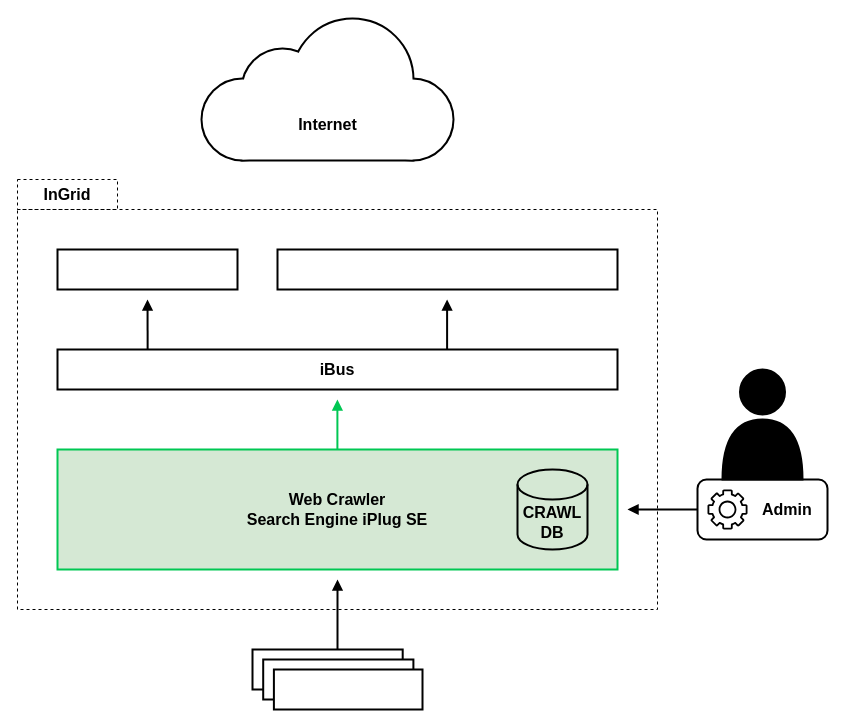
Some shapes in this 846 by 727 pixel diagram are drawn without their labels. The shapes that lost their labels are listed below. From the top down, each one's centre as x and y in pixels, then its label:
the point at 147,269: InGrid Portal
the point at 447,269: Schnittstellen
the point at 347,689: Websites URL Räume
